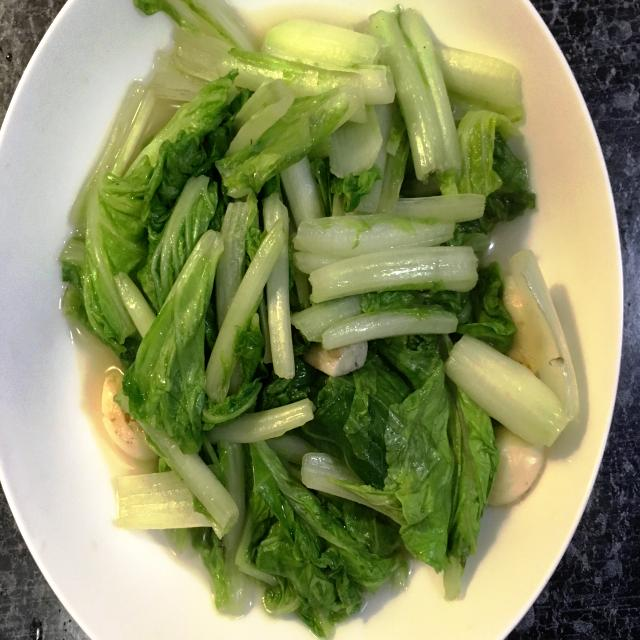chinese_cabbage: (99, 23, 564, 593)
